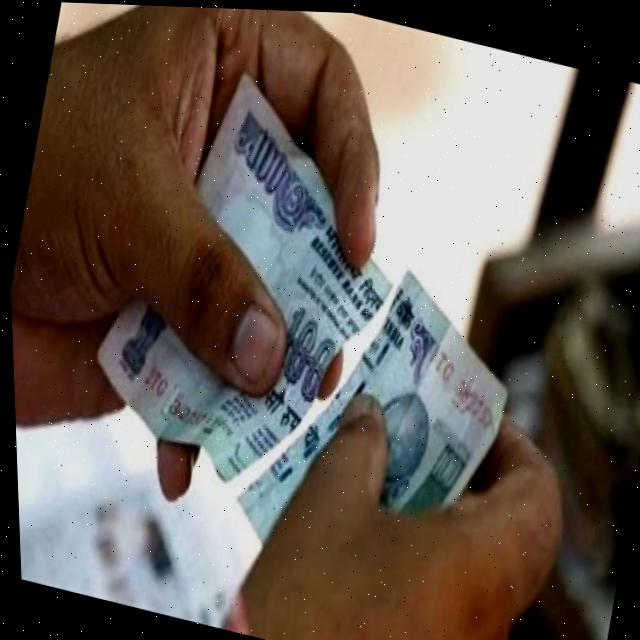banknote: (44, 42, 563, 627), (259, 289, 345, 407), (231, 112, 300, 203), (420, 429, 467, 493)
